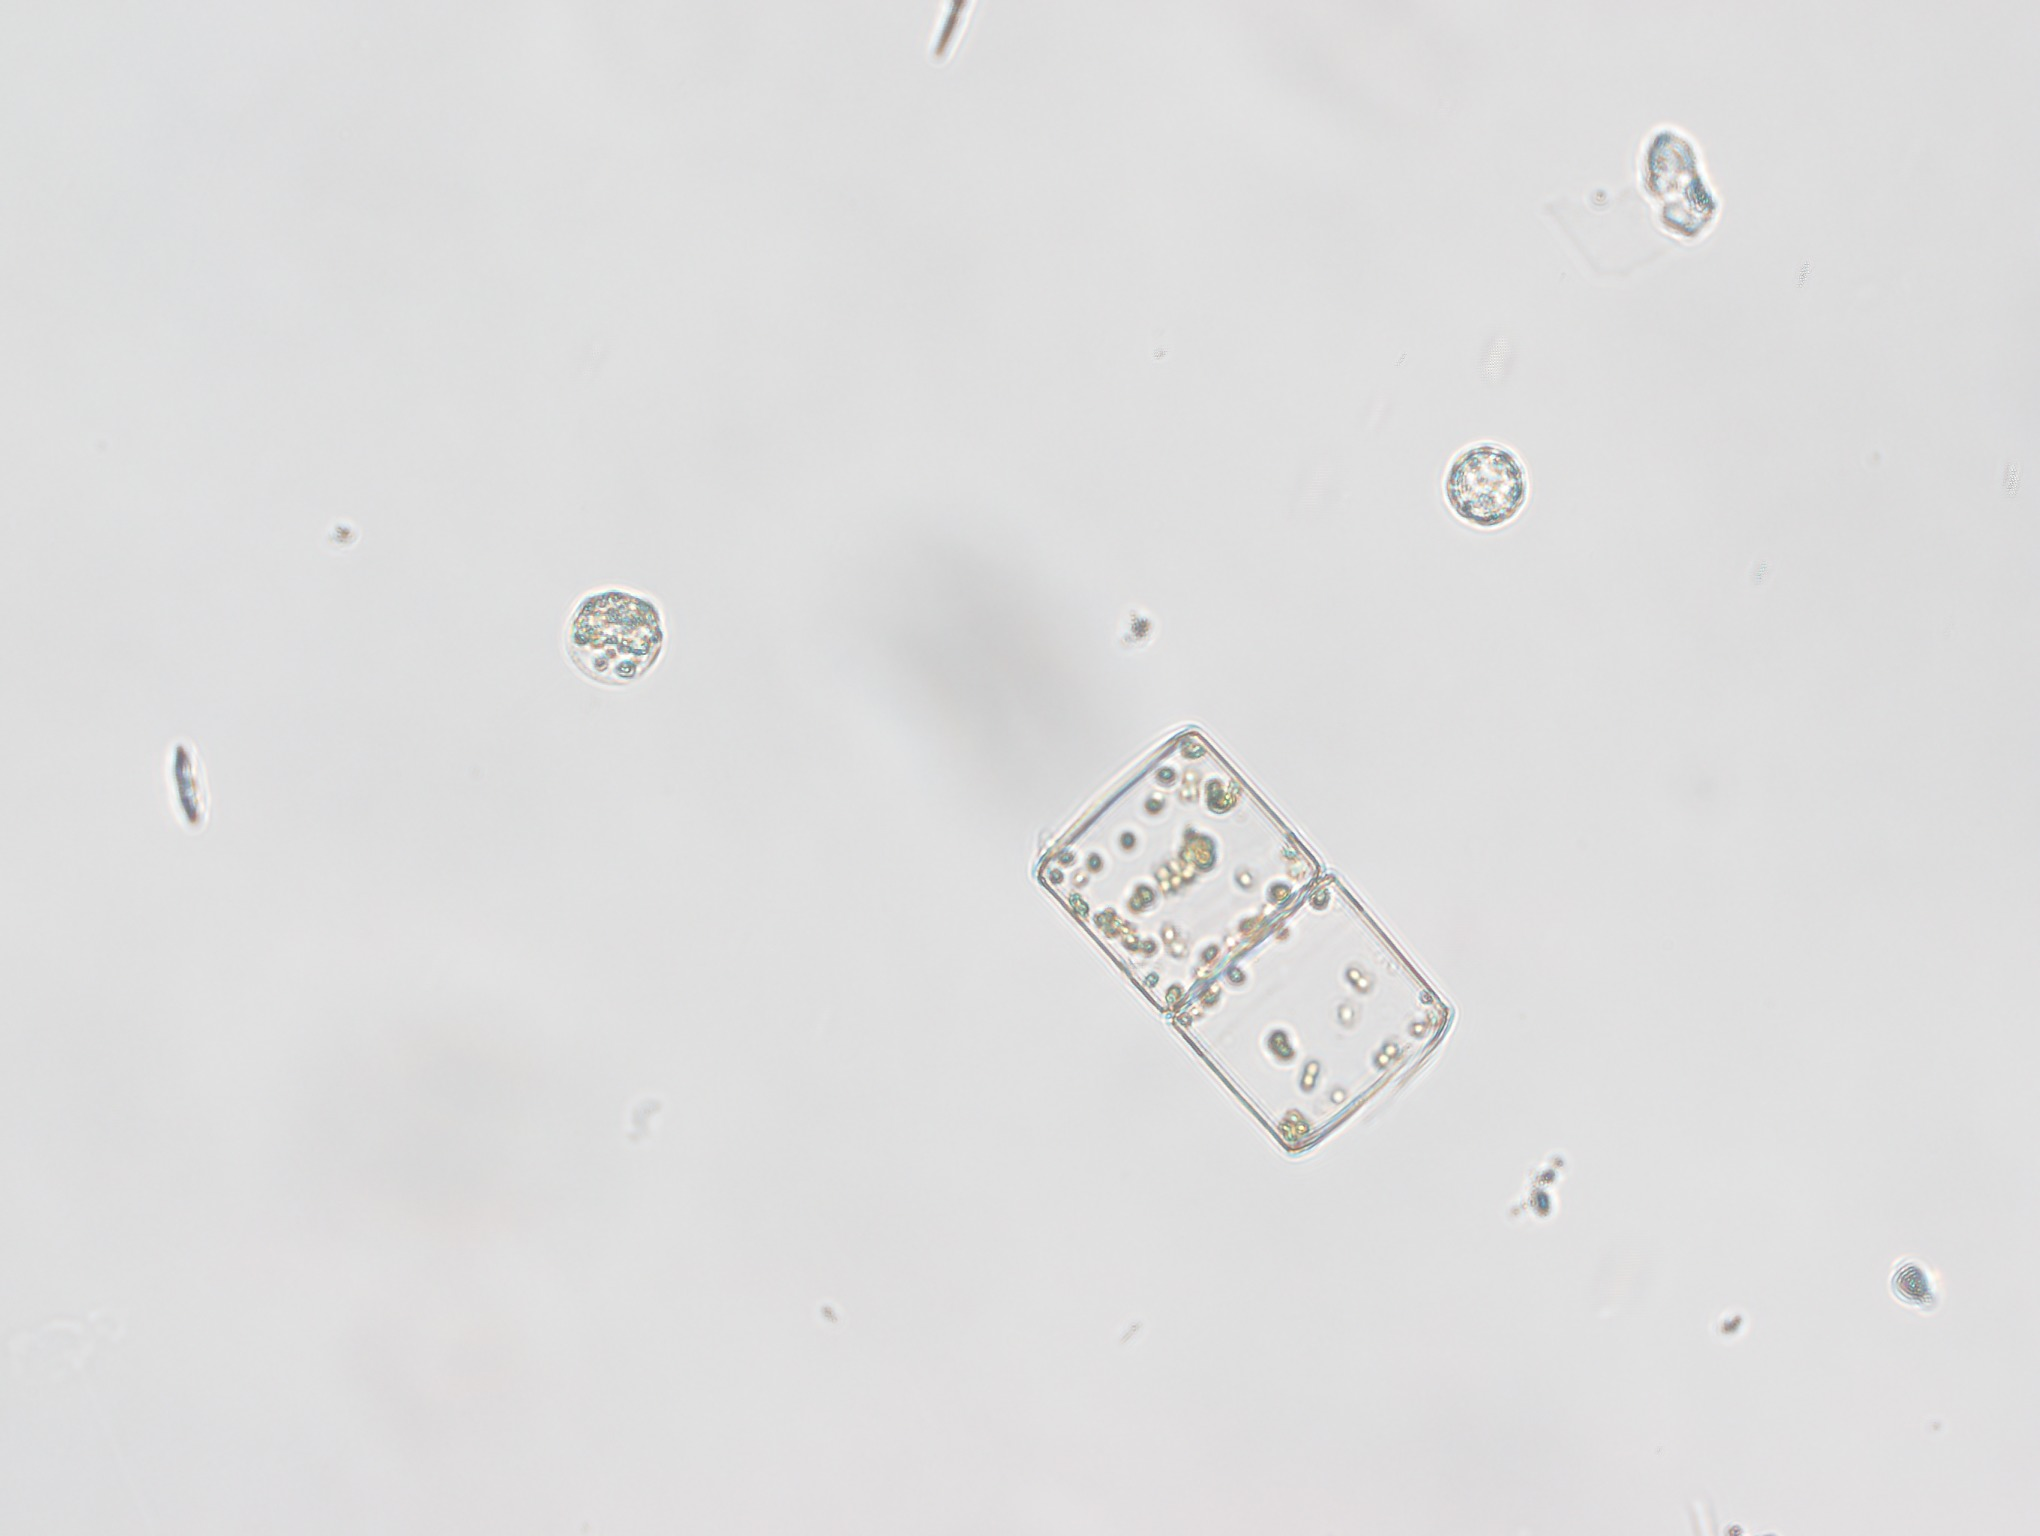guinardia flaccida: (1014, 703, 1474, 1176)
